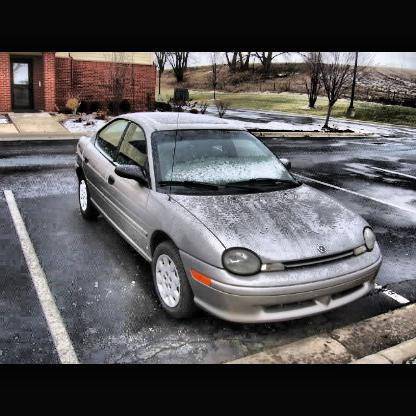Plymouth Neon Coupe 1999: (76, 111, 385, 323)
